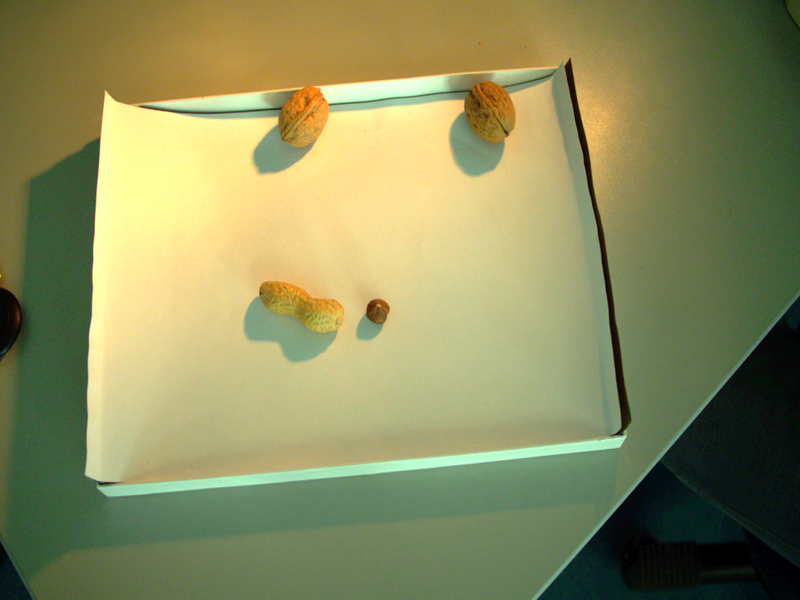walnut: (461, 77, 528, 147), (277, 83, 337, 152)
